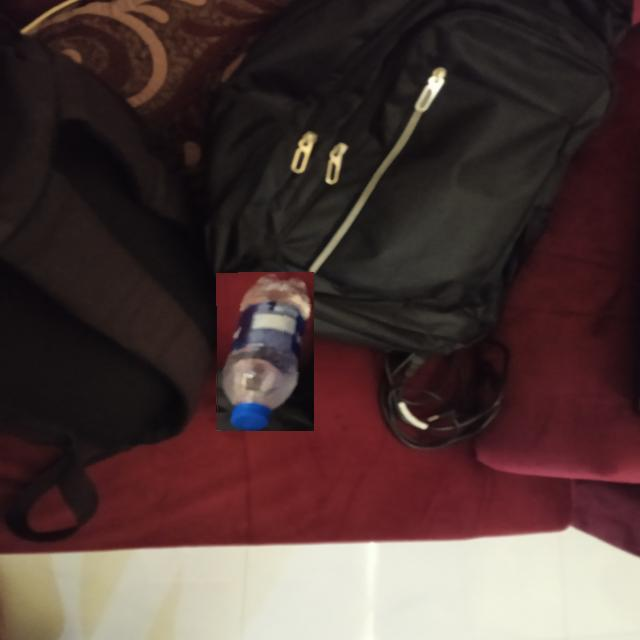Plastic: (215, 272, 314, 431)
